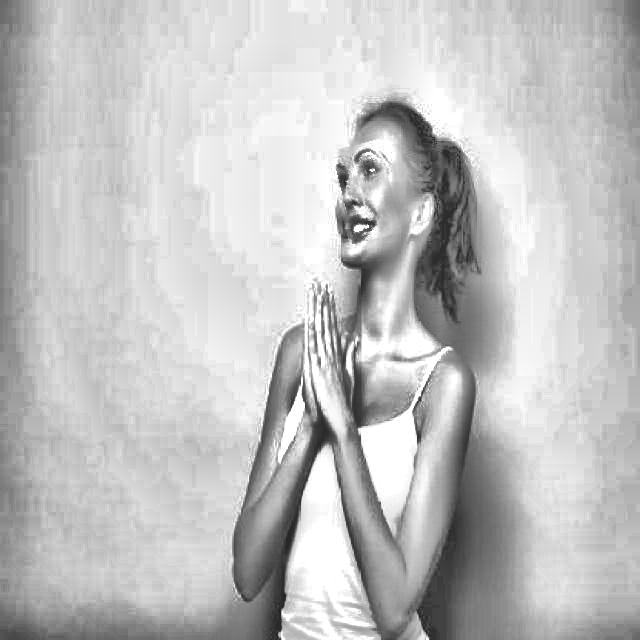happy: (333, 142, 397, 242)
